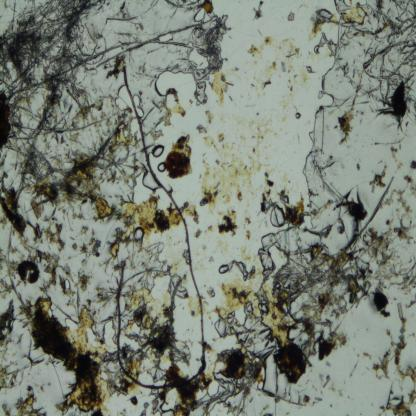Air bubble: (301, 106, 325, 208), (155, 67, 189, 98), (319, 56, 338, 110), (260, 233, 280, 272), (393, 218, 416, 249), (114, 83, 130, 114), (214, 316, 231, 339), (194, 82, 209, 108), (313, 34, 330, 54), (271, 205, 286, 227), (139, 169, 154, 190), (133, 93, 144, 118), (299, 212, 314, 230), (158, 31, 174, 44), (151, 144, 164, 157), (193, 8, 206, 21), (134, 227, 145, 241), (219, 263, 229, 275), (63, 278, 71, 291), (305, 64, 315, 74), (157, 161, 166, 172), (318, 89, 324, 99), (209, 290, 216, 298)
Background material: (258, 232, 367, 348), (30, 295, 118, 416), (0, 146, 119, 228), (337, 0, 415, 118), (127, 250, 193, 381), (205, 342, 278, 416), (109, 195, 181, 264), (216, 283, 291, 348), (189, 0, 228, 81), (365, 81, 416, 131), (0, 171, 31, 247), (235, 112, 279, 161), (222, 160, 263, 208), (364, 226, 392, 290), (19, 250, 59, 294), (99, 147, 141, 188), (272, 342, 312, 384), (384, 364, 416, 416), (156, 384, 206, 416), (199, 158, 224, 213), (164, 133, 192, 180), (0, 296, 22, 354), (372, 329, 397, 379), (201, 131, 238, 163), (249, 58, 278, 98), (334, 106, 363, 145), (14, 384, 48, 416), (279, 60, 301, 107), (163, 85, 187, 128), (32, 223, 66, 253), (317, 328, 346, 362), (209, 70, 235, 107), (390, 260, 416, 296), (0, 253, 19, 299), (384, 188, 413, 218), (105, 371, 138, 397), (310, 7, 339, 36), (75, 235, 101, 263), (218, 208, 240, 241), (20, 342, 44, 372), (368, 288, 392, 318), (247, 34, 276, 58), (278, 387, 310, 408), (286, 194, 306, 227), (229, 260, 257, 283), (349, 80, 371, 109), (277, 37, 303, 60), (368, 165, 388, 194), (0, 358, 19, 388), (64, 287, 83, 316), (73, 267, 93, 294), (94, 284, 115, 304), (21, 293, 32, 331), (202, 298, 220, 321), (374, 134, 405, 146), (186, 293, 200, 319), (242, 216, 254, 242), (181, 200, 198, 218), (402, 174, 416, 195), (252, 0, 264, 23), (336, 208, 346, 235), (276, 187, 290, 206), (238, 244, 252, 263), (396, 302, 407, 326), (318, 372, 332, 388), (99, 256, 111, 273), (300, 68, 310, 87), (0, 402, 12, 416), (350, 359, 359, 377), (204, 109, 215, 123), (140, 401, 150, 416), (79, 224, 91, 236), (389, 146, 398, 162), (195, 124, 207, 136), (264, 178, 276, 189), (282, 172, 292, 184), (204, 224, 216, 234), (286, 11, 296, 23), (328, 381, 338, 393), (394, 353, 402, 367), (230, 65, 240, 75), (193, 227, 202, 238), (296, 130, 302, 146), (396, 161, 405, 171), (313, 396, 323, 405), (337, 387, 345, 398), (130, 395, 138, 406), (405, 300, 416, 308), (379, 404, 386, 416), (410, 158, 416, 172), (362, 352, 372, 360), (113, 263, 120, 273), (298, 3, 309, 9), (208, 254, 214, 264), (86, 298, 92, 308), (324, 361, 332, 368), (385, 219, 393, 226), (295, 112, 301, 120), (189, 99, 194, 107), (168, 186, 173, 194), (72, 243, 77, 251), (194, 357, 200, 363), (264, 172, 269, 178), (202, 244, 206, 251), (282, 117, 287, 122)
Diatom: (260, 188, 276, 214), (59, 273, 65, 289), (399, 327, 406, 335), (394, 348, 400, 355), (193, 217, 199, 224), (139, 22, 144, 30), (356, 163, 360, 171), (396, 343, 402, 348), (399, 335, 404, 341), (306, 204, 312, 208)
Glass filter fibre: (350, 176, 394, 250)
Microfibre: (116, 63, 210, 391)
